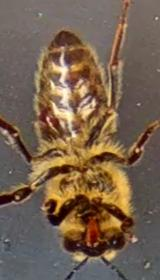varroa_mite: (36, 97, 66, 139)
